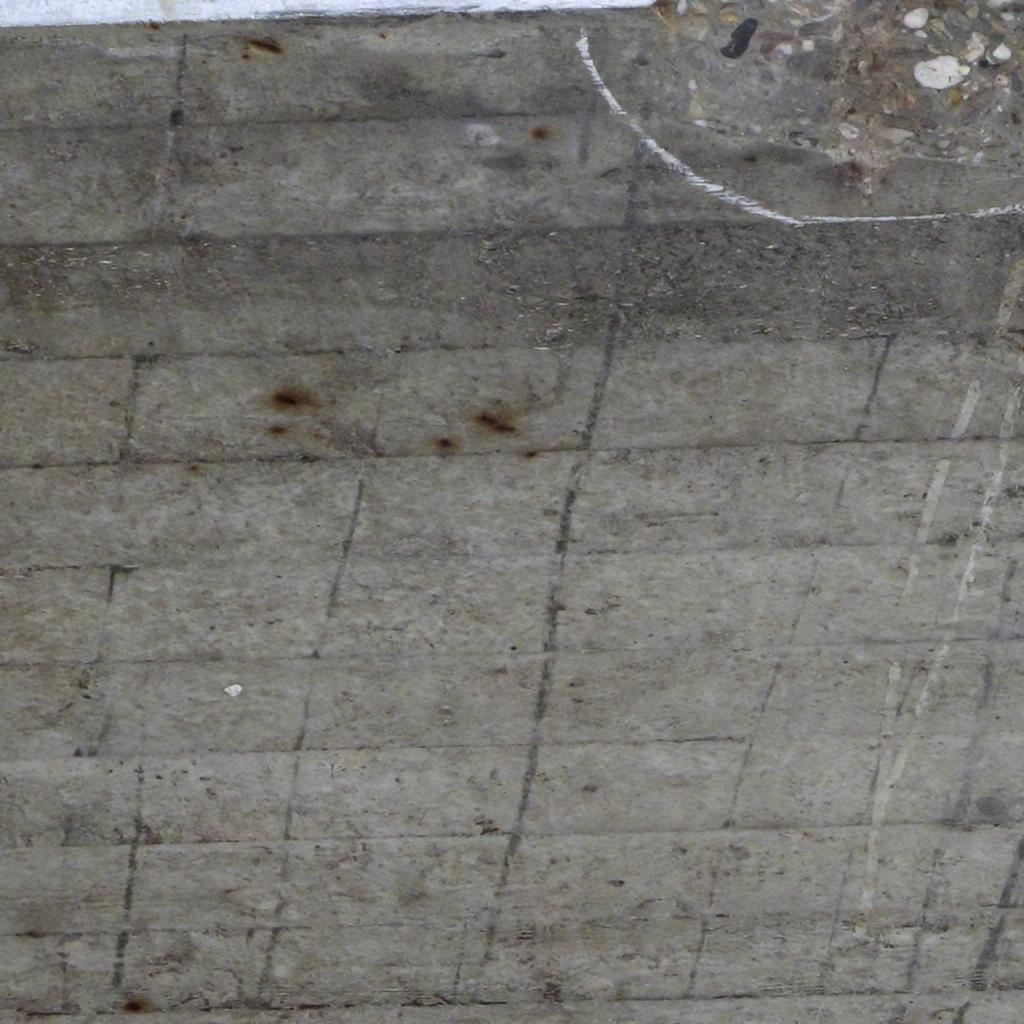spalling: (654, 0, 1024, 196)
